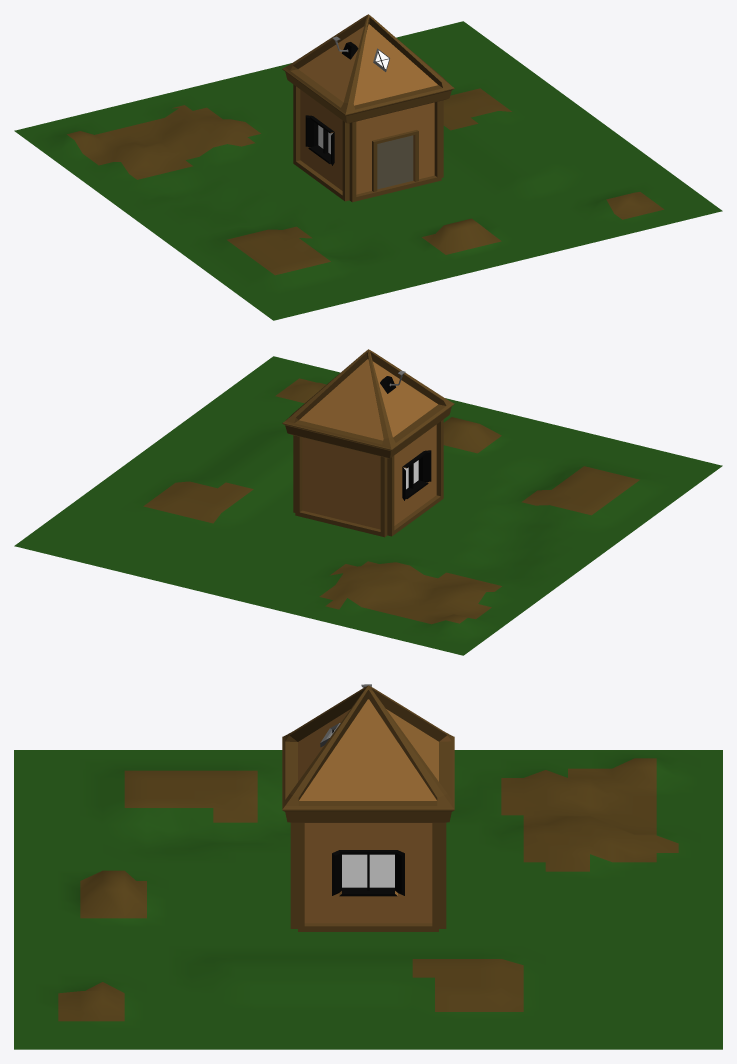
The model's file is Villager House.fbx.
3 views of the same model, one above another, from view 1: azimuth 30°, elevation 25°; view 2: azimuth 150°, elevation 25°; view 3: azimuth 270°, elevation 25° (orthographic). The views are drawn at different scales.
Visible parts, largest first — view 1: Villager House; view 2: Villager House; view 3: Villager House.
Boxes of the visible parts, x1,y1,x2,y2 form: Villager House: [14, 14, 722, 320]; Villager House: [14, 349, 722, 655]; Villager House: [14, 684, 722, 1049].
Size of the model in its own units: 1005 by 343 by 1005.
